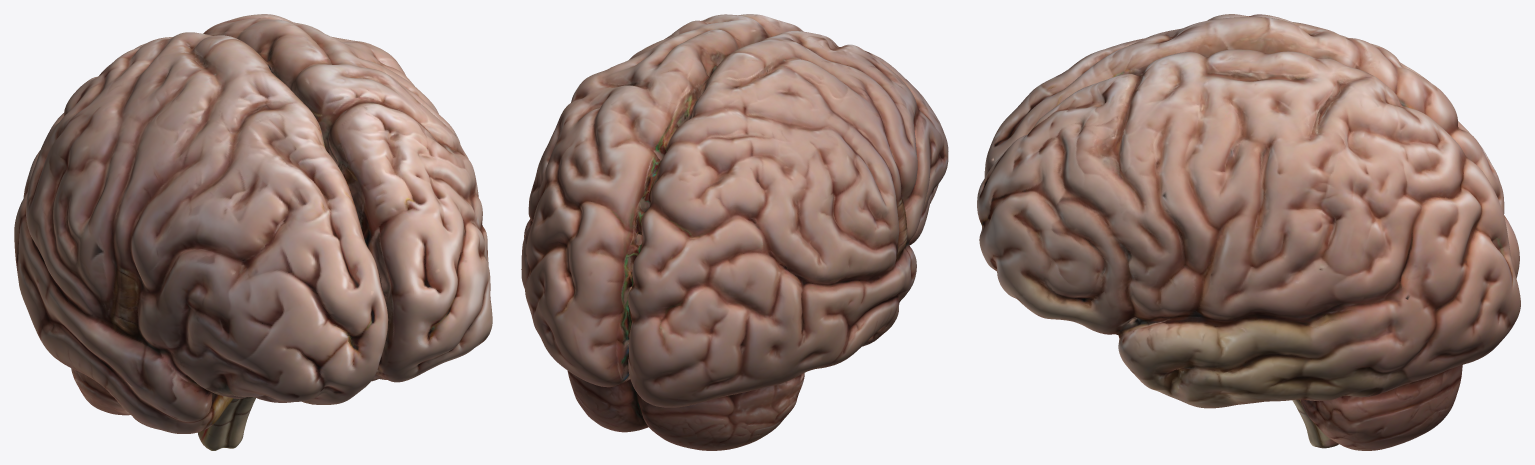
File: A_hyper_realistic_3D__1206120418_refine.obj
3 renders of one model, left to right at view 1: azimuth 30°, elevation 25°; view 2: azimuth 150°, elevation 25°; view 3: azimuth 270°, elevation 25°, orthographic. The views are drawn at different scales.
Visible parts, largest first — view 1: Mesh_0; view 2: Mesh_0; view 3: Mesh_0.
Boxes of the visible parts, box(x1,y1,x2,y2) form: Mesh_0: box(14, 14, 492, 450); Mesh_0: box(521, 14, 948, 450); Mesh_0: box(977, 14, 1520, 450).
Size of the model in its own units: 1.51 by 1.67 by 2.
Materials: 1 (1 with a texture image).
